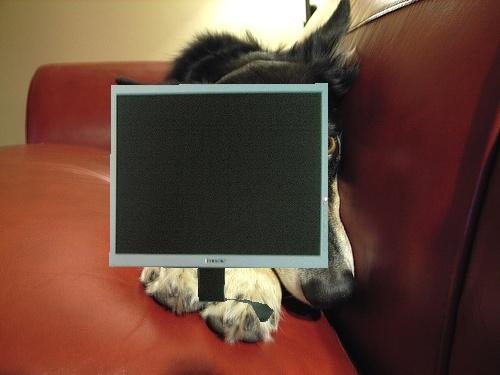tampered: (109, 84, 328, 322)
